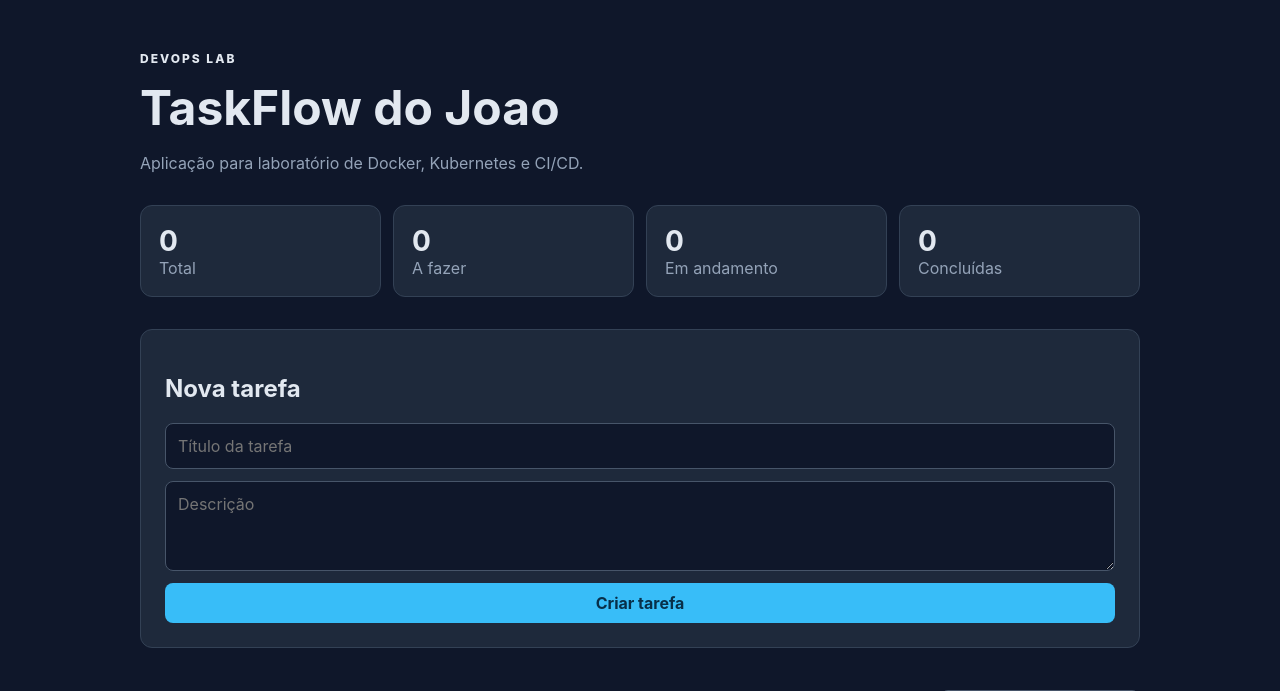
TaskFlow › deve criar uma nova tarefa
Type "Nova tarefa" into the field with placeholder "Título da tarefa". click: (640, 446)
box: x1=165 y1=423 x2=1115 y2=469
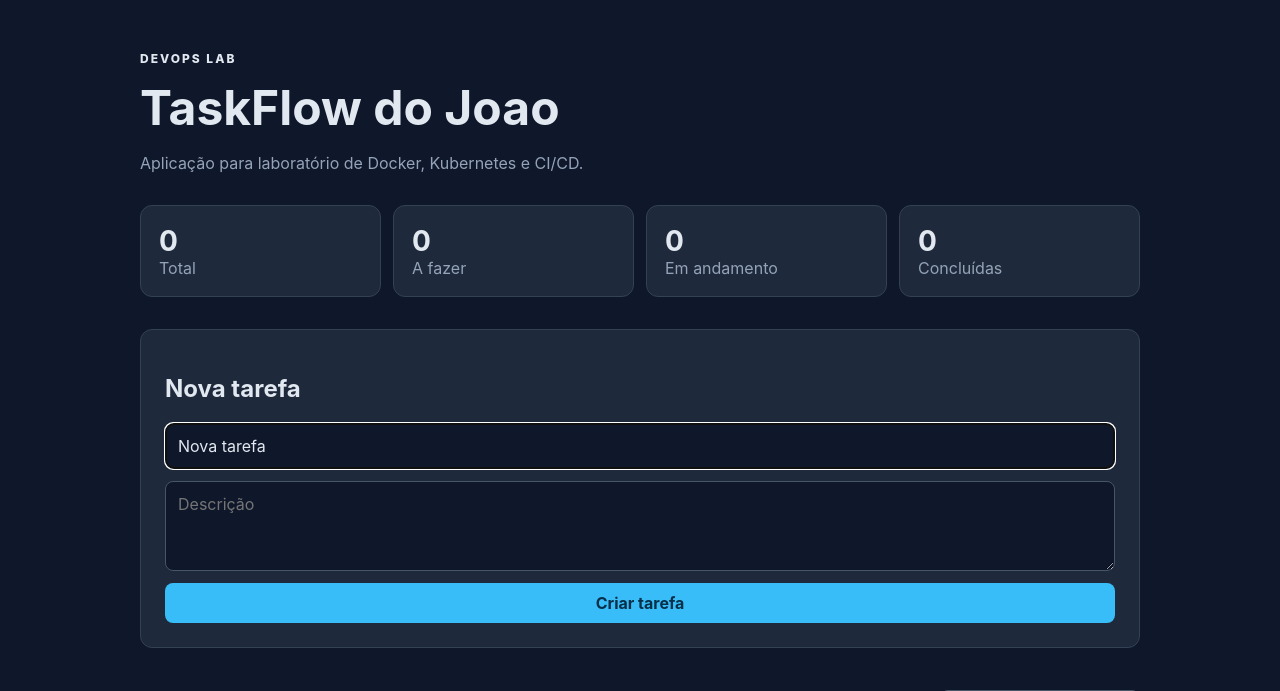
Type "Descrição da tarefa" into the text box with placeholder "Descrição". click: (640, 526)
box: x1=165 y1=481 x2=1115 y2=571
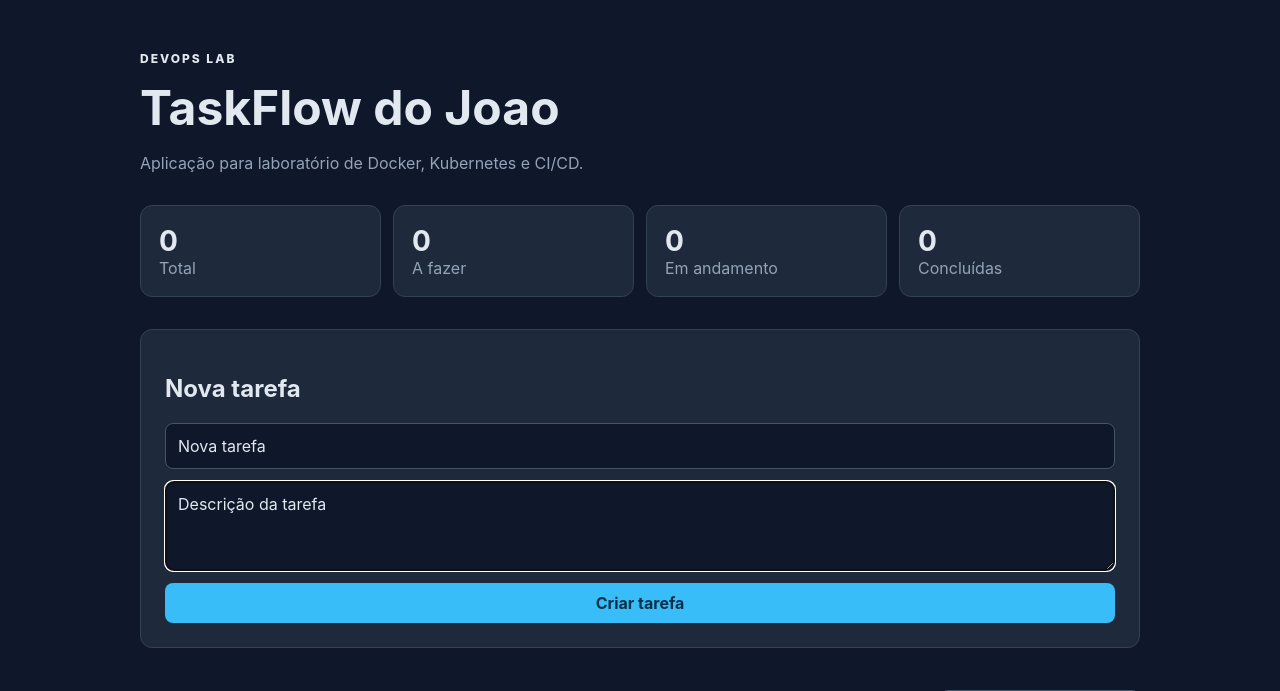
Click the button "Criar tarefa". click: (640, 603)
box: x1=165 y1=583 x2=1115 y2=623
(page scrolled)
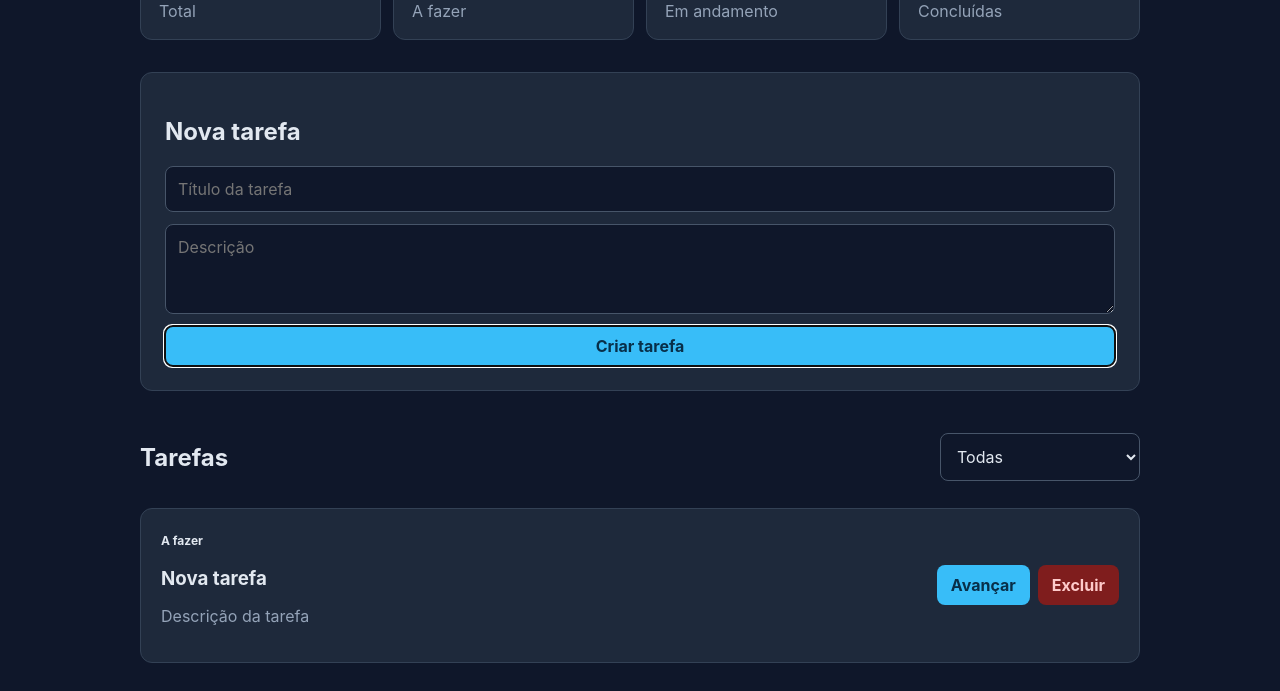
Expected: the text "Nova tarefa" is shown, x1=161 y1=567 x2=267 y2=590
Expected: the text with class "status" reads "A fazer", x1=161 y1=533 x2=203 y2=548
Expected: the text "Descrição da tarefa" is shown, x1=161 y1=606 x2=309 y2=626
